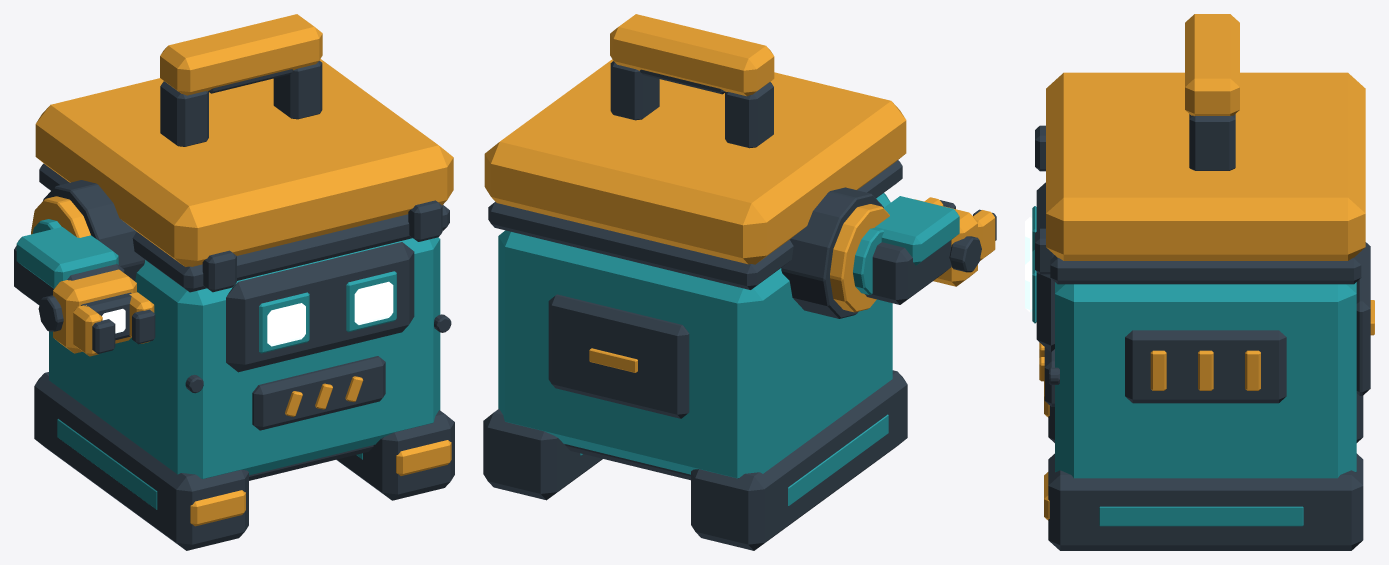
The model's file is Repairer.fbx.
3 renders of one model, left to right at view 1: azimuth 30°, elevation 25°; view 2: azimuth 150°, elevation 25°; view 3: azimuth 270°, elevation 25°, orthographic. The views are drawn at different scales.
Visible parts, largest first — view 1: Repairer_Body, Repairer_Arm; view 2: Repairer_Body, Repairer_Arm; view 3: Repairer_Body.
Part boxes in pixels (x1,y1,x2,y2): Repairer_Body: (34, 14, 454, 550); Repairer_Arm: (14, 180, 155, 356); Repairer_Body: (483, 14, 907, 550); Repairer_Arm: (781, 187, 996, 318); Repairer_Body: (1025, 14, 1374, 550).
Size of the model in its own units: 1.01 by 1.1 by 0.7925.
